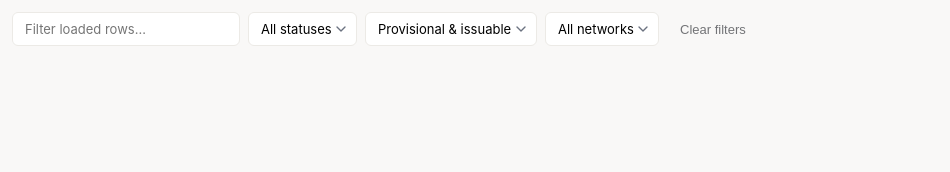
it: FilterBar › renders cascading network→site→kiln selects when hierarchy is present (M1.5)
The image size is (950, 172).
Step 1. Select "North Net" in the dropdown named "Filter by network" → (602, 29), box top-left (545, 12), bottom-right (659, 46)
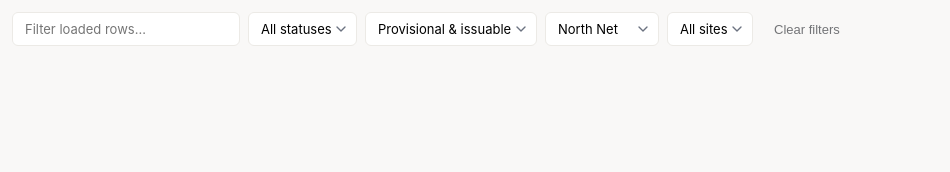
Step 2. Select "Site A" in the dropdown named "Filter by site" → (710, 29), box top-left (667, 12), bottom-right (753, 46)
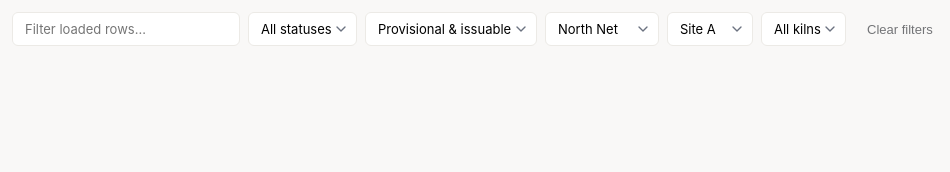
Now the dropdown named "Filter by kiln" is shown, box top-left (761, 12), bottom-right (846, 46)
